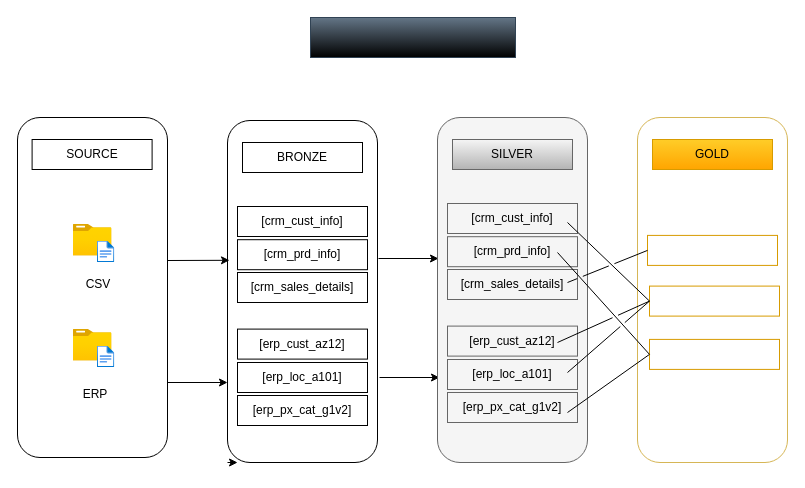
Image size: 805x488. Some labels were removed from this diagram. The box of each missing label's shape, as (x1, y1, x2, y2) in pixels:
DATA FLOW DIAGRAM: (310, 16, 516, 58)
dim_customers: (648, 285, 780, 316)
dim_products: (648, 338, 780, 369)
fact_sales: (646, 234, 778, 265)
